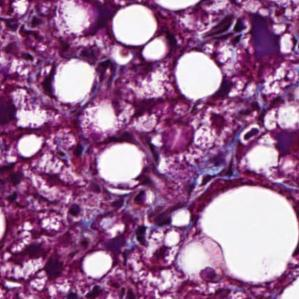inflammation: (199, 12, 255, 50), (131, 207, 177, 249), (234, 121, 267, 146)
